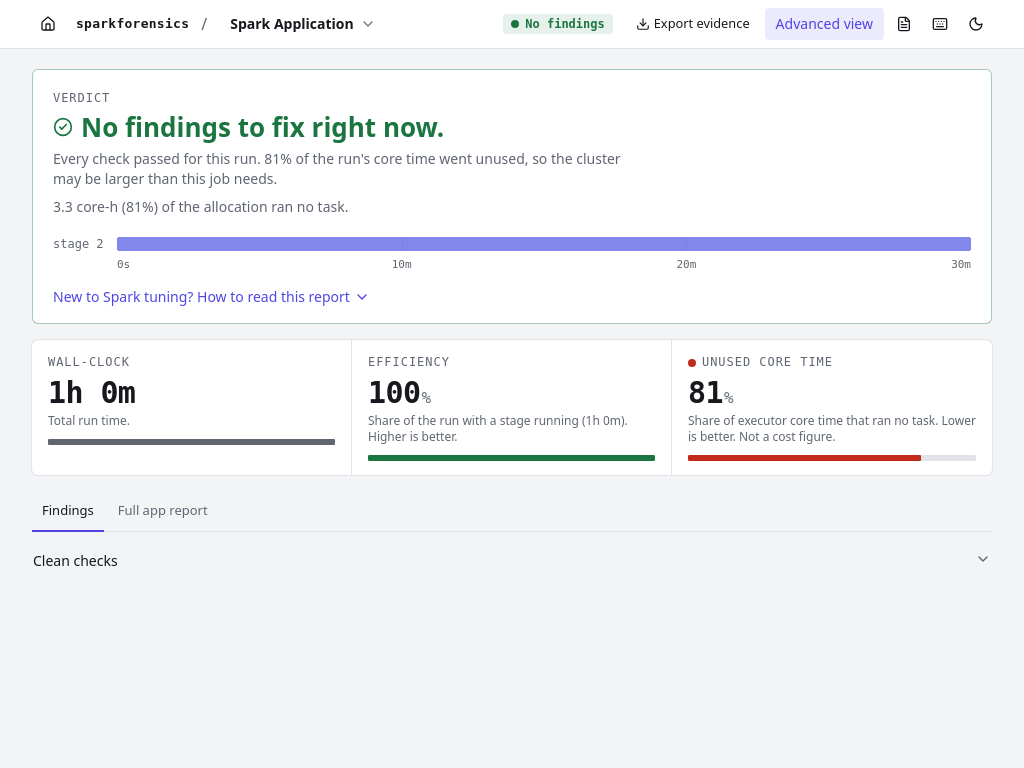
empty catalog shows the "no findings to fix" empty state alongside the Full app report tab and its always-mounted chart
The width and height of the screenshot is (1024, 768).
expect the heading "No findings to fix right now." is shown: met, box [53,109,444,145]
Note: The empty state is additive: Full app report and its always-mounted chart remain available.
Click the tab "Full app report" at (163, 511), box [108,491,218,532]
(page scrolled)
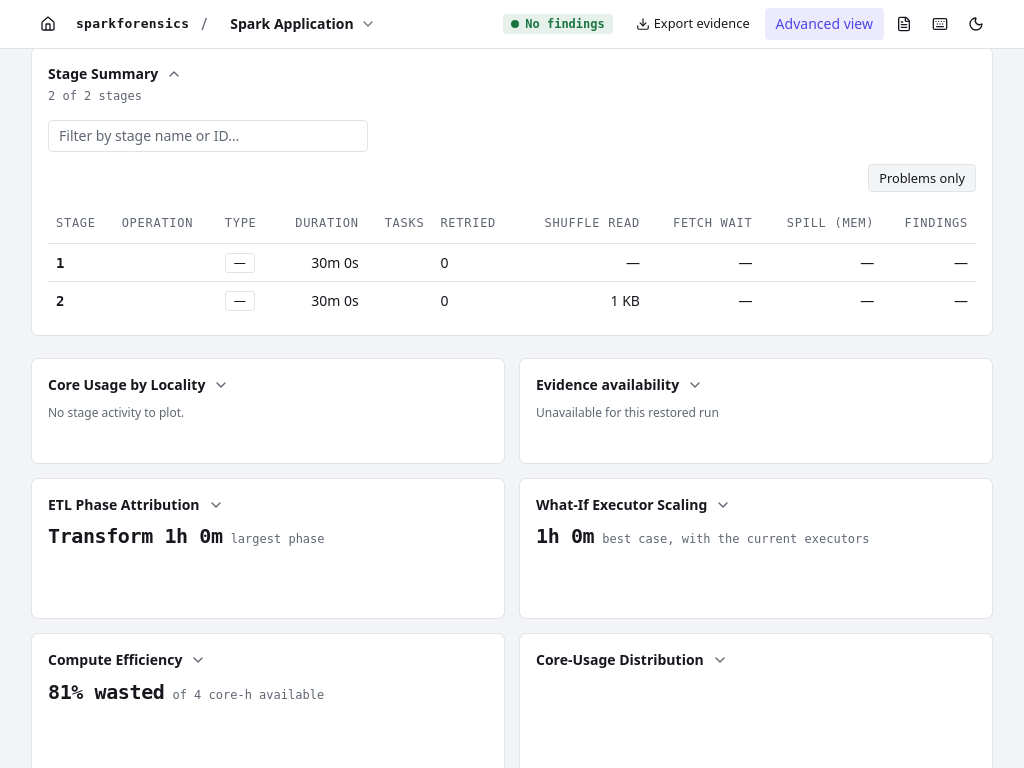
expect the heading "Core Usage by Locality" is shown: met, box [48,375,205,394]
